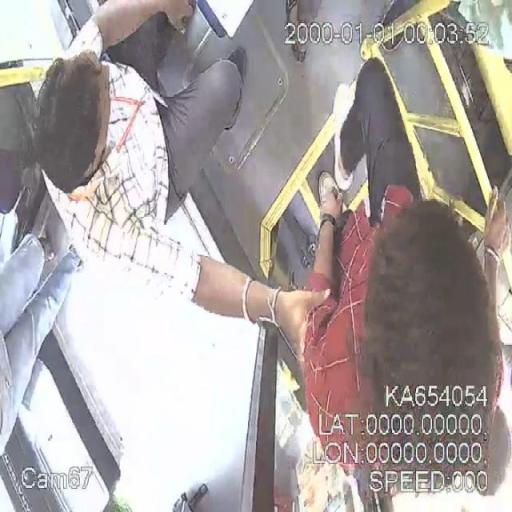persona: (34, 0, 332, 366), (280, 58, 512, 494)
